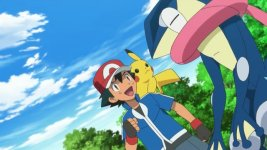greninja: (139, 1, 267, 149)
